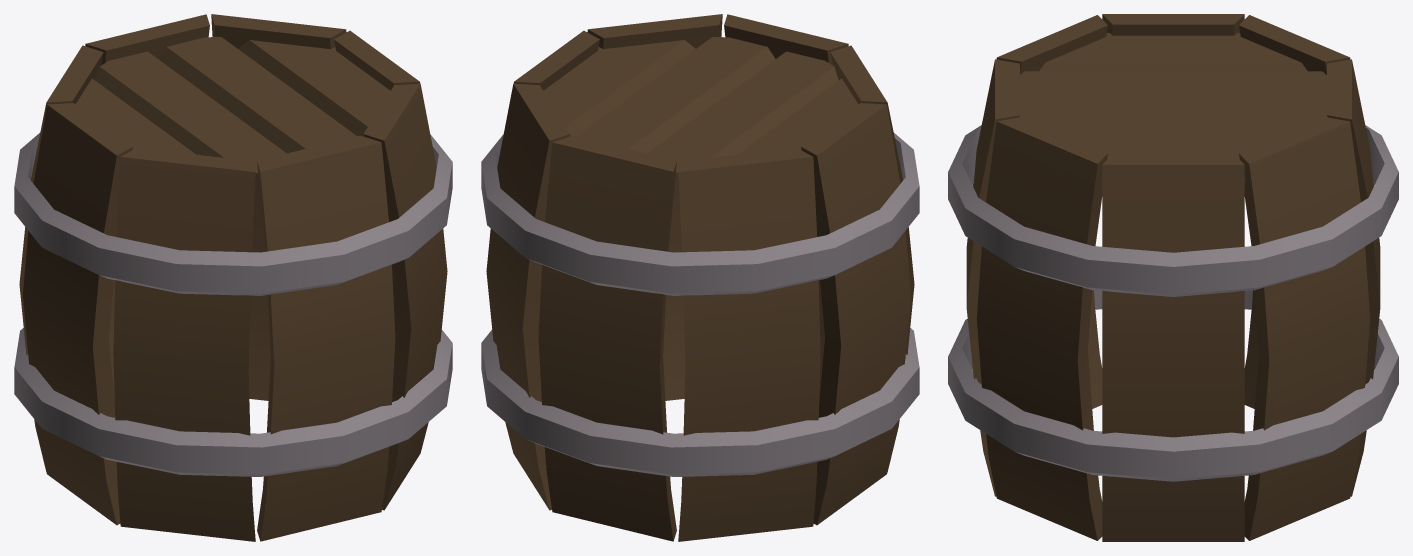
The model's file is barrel.glb.
3 views of the same model, side by side, from view 1: azimuth 30°, elevation 25°; view 2: azimuth 150°, elevation 25°; view 3: azimuth 270°, elevation 25° (orthographic).
Visible parts, largest first — view 1: Prop_Barrel; view 2: Prop_Barrel; view 3: Prop_Barrel.
Part boxes in pixels (x1,y1,x2,y2): Prop_Barrel: [14, 14, 452, 541]; Prop_Barrel: [481, 14, 919, 541]; Prop_Barrel: [948, 14, 1398, 541].
Bounding box in the file's own units: 0.7147 × 0.6599 × 0.7147.
Materials: 1 (1 with a texture image).
